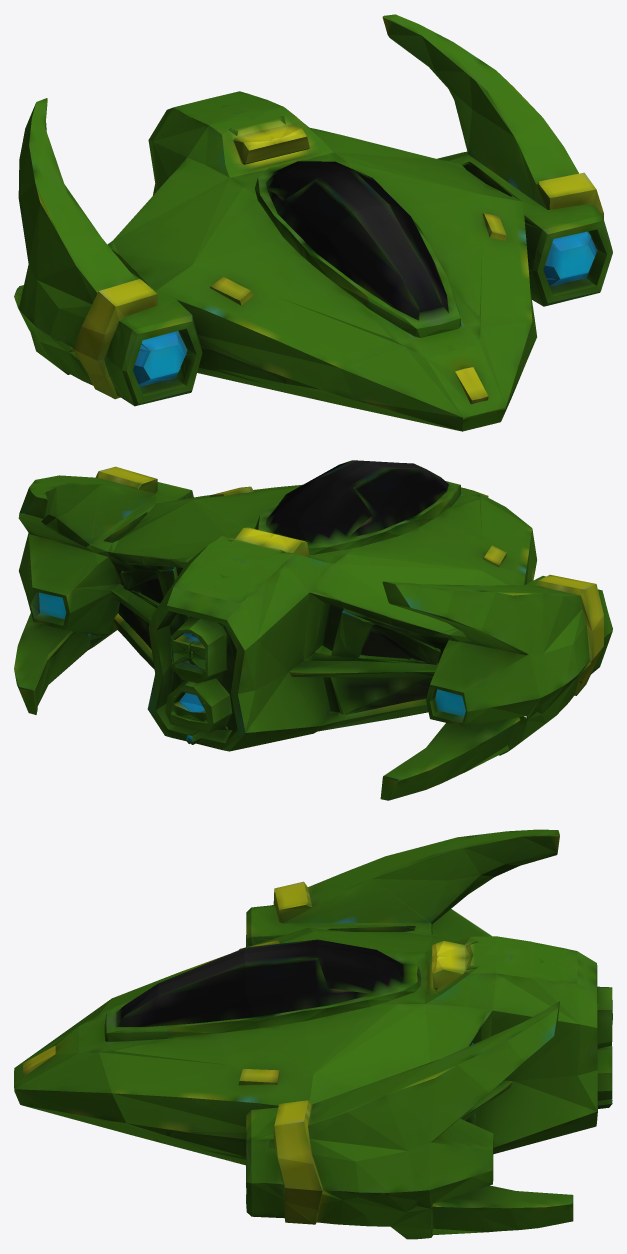
3 views of the same model, one above another, from view 1: azimuth 30°, elevation 25°; view 2: azimuth 150°, elevation 25°; view 3: azimuth 270°, elevation 25° (orthographic).
Visible parts, largest first — view 1: world; view 2: world; view 3: world.
Boxes of the visible parts, x1,y1,x2,y2 form: world: (14, 14, 612, 431); world: (14, 460, 612, 800); world: (14, 829, 612, 1239).
Bounding box in the file's own units: 1 × 0.3832 × 0.9693.
Materials: 1 (1 with a texture image).
